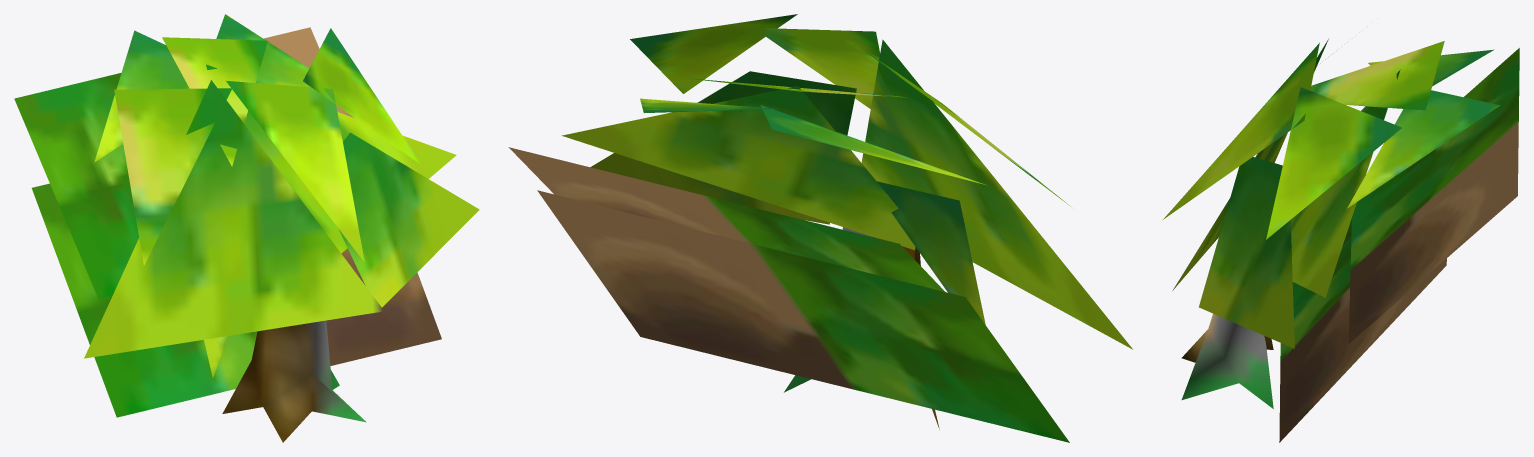
File: fg_bushB_1.dae
3 views of the same model, side by side, from view 1: azimuth 30°, elevation 25°; view 2: azimuth 150°, elevation 25°; view 3: azimuth 270°, elevation 25° (orthographic). The views are drawn at different scales.
Parts seen in each view (by area): view 1: fg_bushB_1; view 2: fg_bushB_1; view 3: fg_bushB_1.
Part boxes in pixels (x1,y1,x2,y2): fg_bushB_1: [14, 14, 479, 442]; fg_bushB_1: [508, 14, 1132, 442]; fg_bushB_1: [1163, 39, 1519, 442].
Bounding box in the file's own units: 34.76 × 25.18 × 25.46.
1 material, 1 textured.
